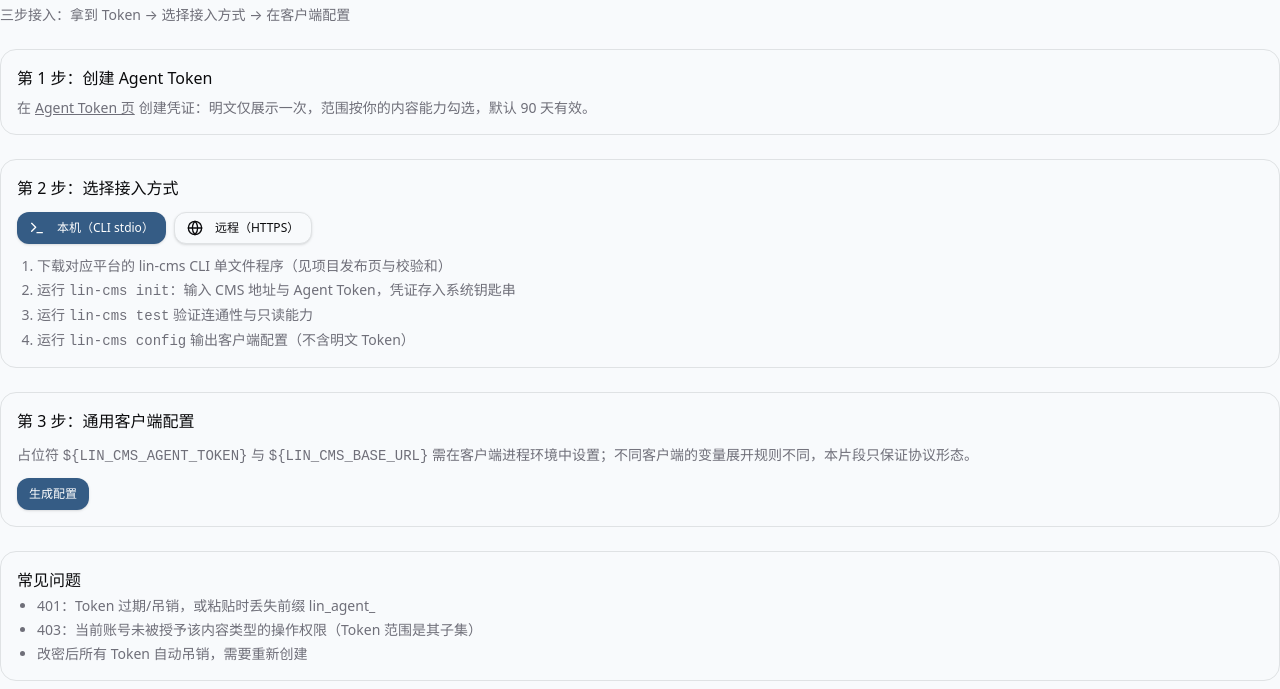
AgentAccessPage 接入向导 › 生成的通用 MCP 配置可 JSON.parse 且不含真实 token
Click the button "生成配置".
click(53, 494)  # box 17,478 -> 89,510
(page scrolled)
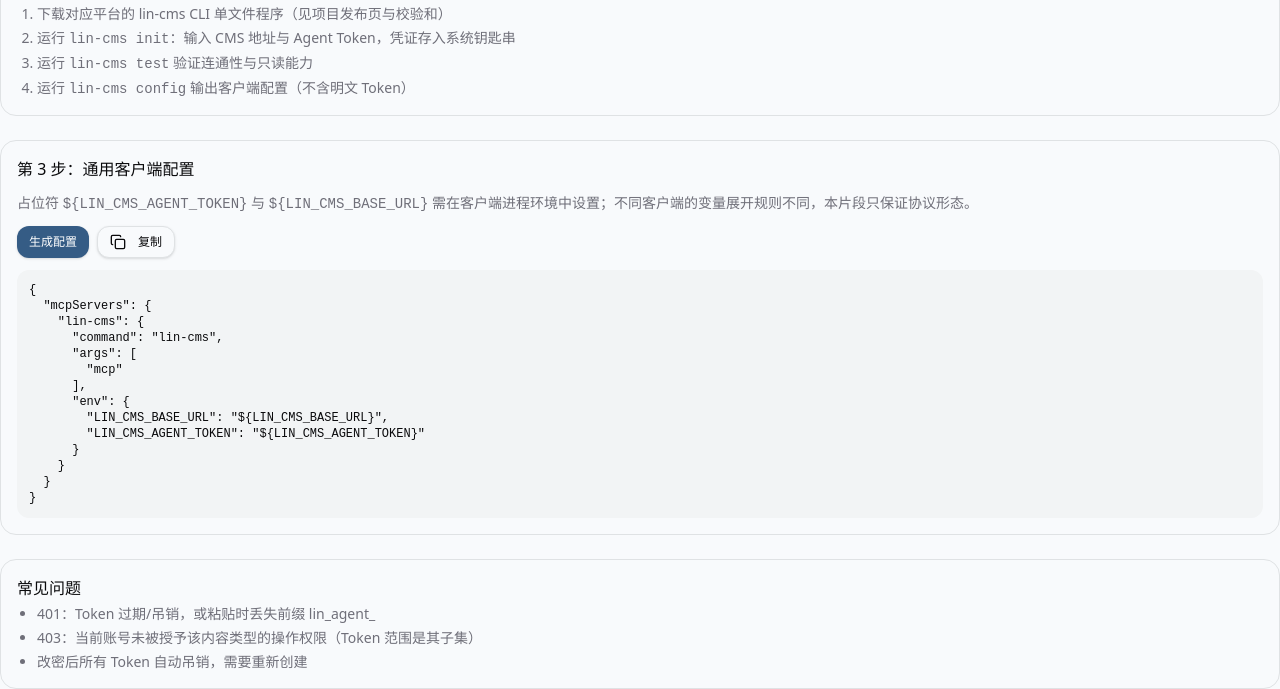
Now the text with test id "mcp-config-json" shows "${LIN_CMS_AGENT_TOKEN}", box 29,283 -> 425,505
Now the text with test id "mcp-config-json" shows "${LIN_CMS_BASE_URL}", box 29,283 -> 425,505
